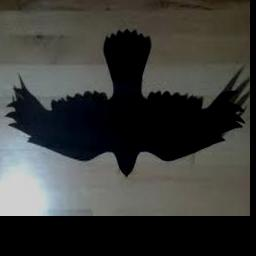Crow: (6, 30, 244, 178)
